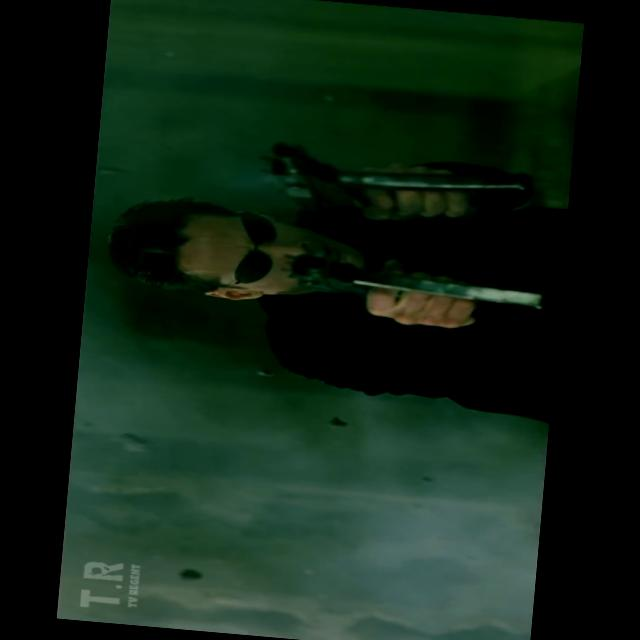long weapon: (238, 124, 530, 248), (276, 239, 576, 332)
